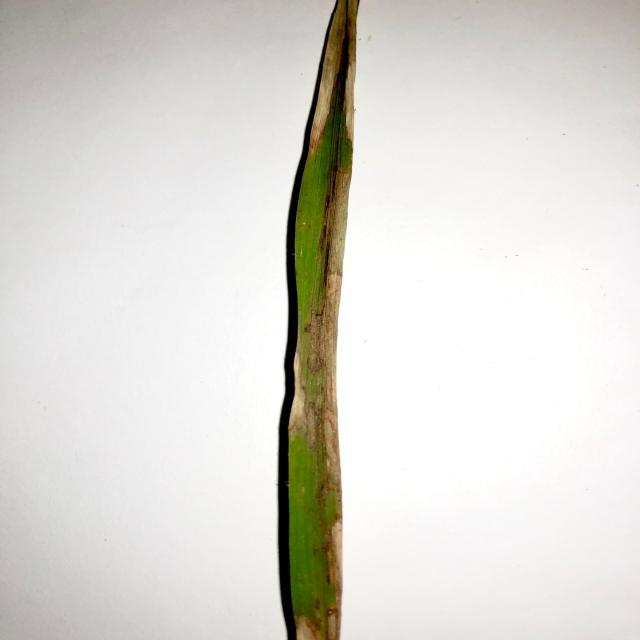Leaf Blight: (289, 163, 350, 640), (303, 0, 360, 164)
